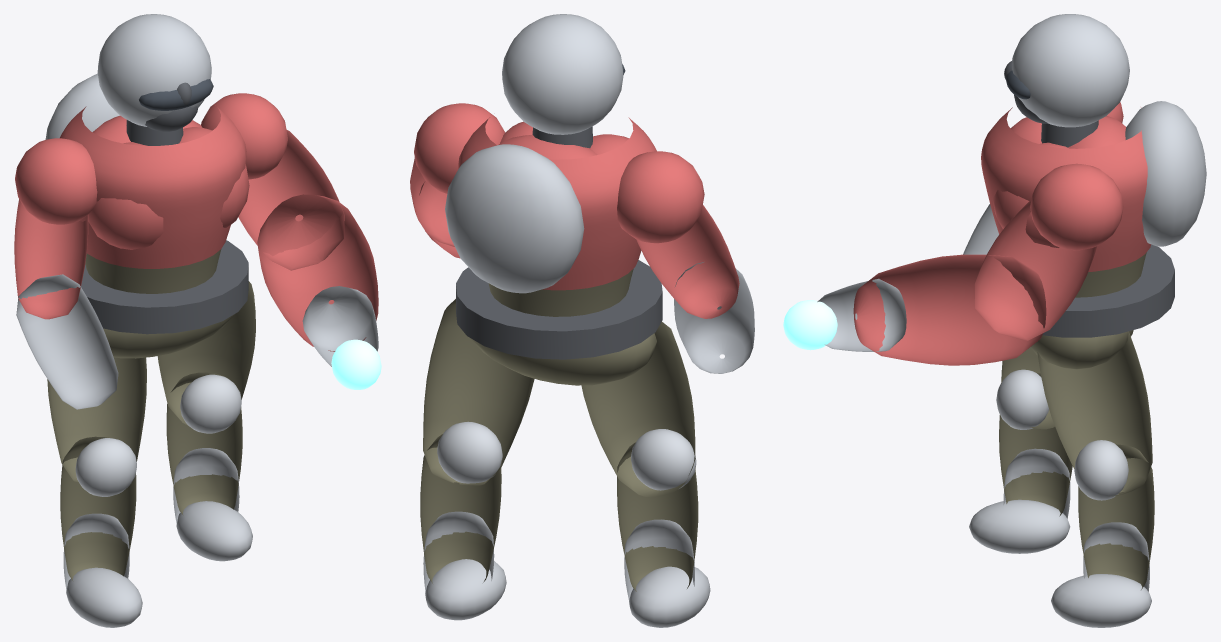
Rendered from shk.glb.
The picture shows the model from 3 angles, left to right: view 1: azimuth 30°, elevation 25°; view 2: azimuth 150°, elevation 25°; view 3: azimuth 270°, elevation 25°; orthographic projection. The views are drawn at different scales.
Visible parts, largest first — view 1: Hull; view 2: Hull; view 3: Hull.
Part boxes in pixels (left/top/right/bottom): Hull: left=14, top=14, right=381, bottom=627; Hull: left=410, top=14, right=754, bottom=627; Hull: left=783, top=14, right=1206, bottom=627.
Size of the model in its own units: 0.5735 by 0.9724 by 0.6572.
